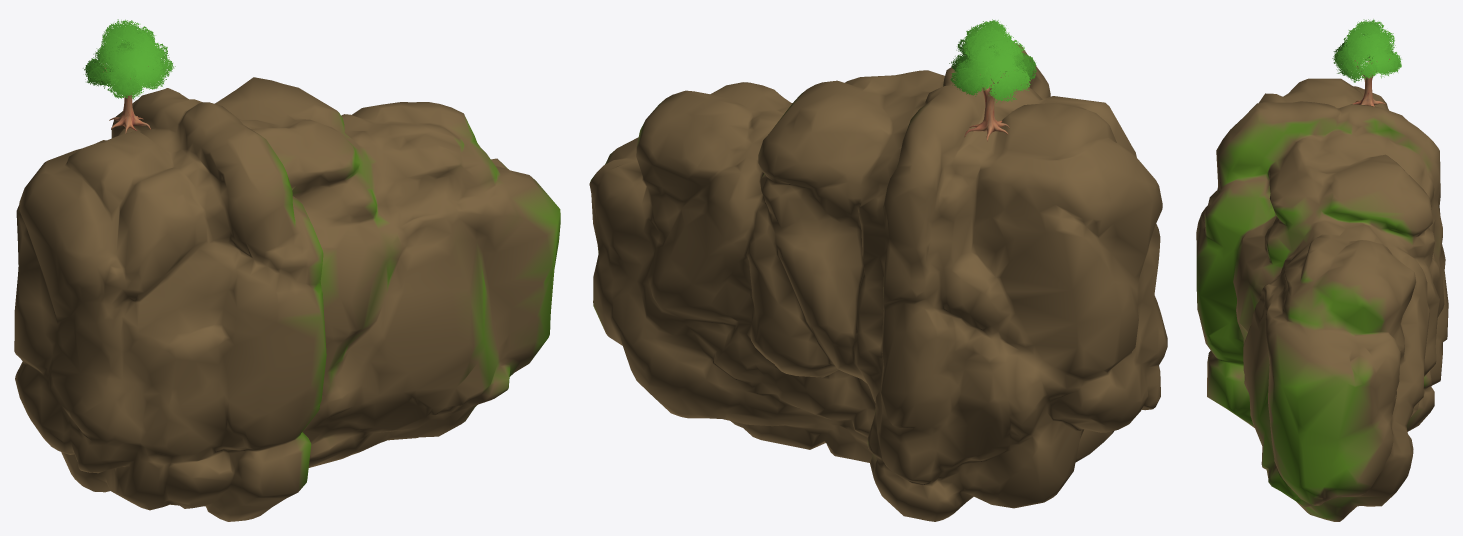
File: cell_x0_z3_render.gltf
The picture shows the model from 3 angles, left to right: view 1: azimuth 30°, elevation 25°; view 2: azimuth 150°, elevation 25°; view 3: azimuth 270°, elevation 25°; orthographic projection. The views are drawn at different scales.
Visible parts, largest first — view 1: SM_ENV_cliff_castle_02_LOD0.029, SM_ENV_tree_castle_01_LOD0.025; view 2: SM_ENV_cliff_castle_02_LOD0.029, SM_ENV_tree_castle_01_LOD0.025; view 3: SM_ENV_cliff_castle_02_LOD0.029, SM_ENV_tree_castle_01_LOD0.025.
Boxes of the visible parts, x1,y1,x2,y2 form: SM_ENV_cliff_castle_02_LOD0.029: (14,77,560,521); SM_ENV_tree_castle_01_LOD0.025: (83,19,175,133); SM_ENV_cliff_castle_02_LOD0.029: (589,43,1167,521); SM_ENV_tree_castle_01_LOD0.025: (949,19,1036,141); SM_ENV_cliff_castle_02_LOD0.029: (1196,78,1448,521); SM_ENV_tree_castle_01_LOD0.025: (1332,19,1401,106).
Size of the model in its own units: 78.85 by 71.41 by 40.77.
Materials: 3 (2 with a texture image).
